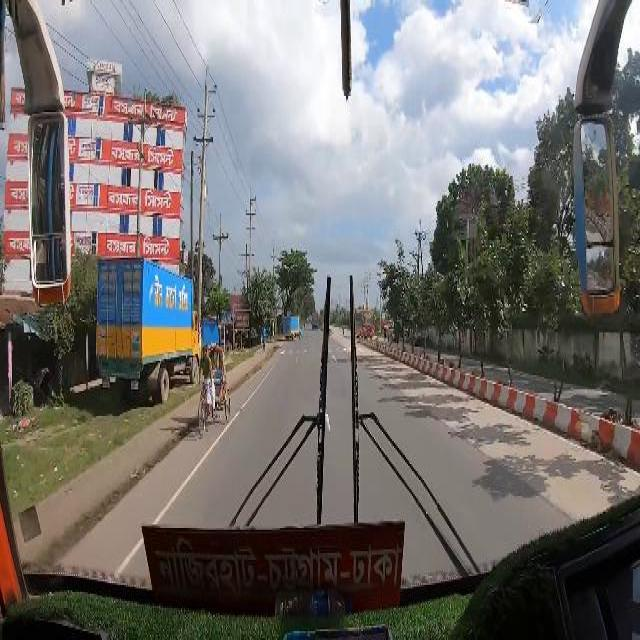11: (282, 314, 302, 340)
13: (197, 342, 231, 433)
18: (93, 252, 203, 398)
Truck: (354, 306, 376, 338)
